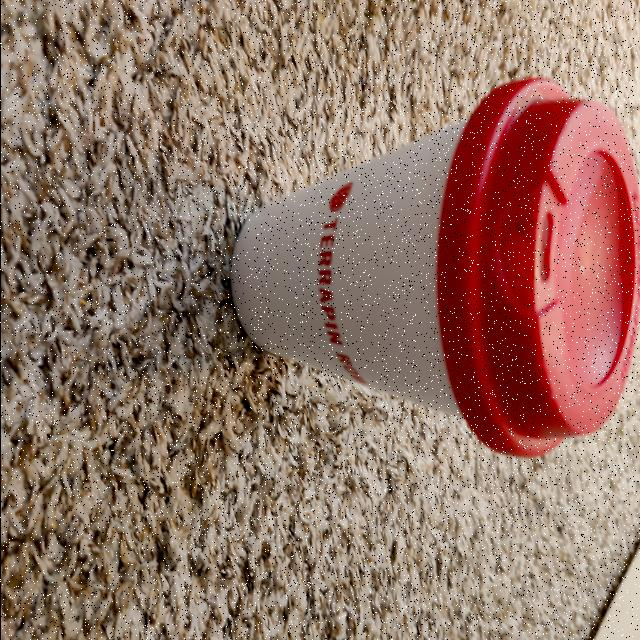mug: (230, 83, 634, 464)
